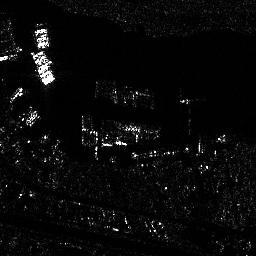ship: (8, 86, 24, 103)
